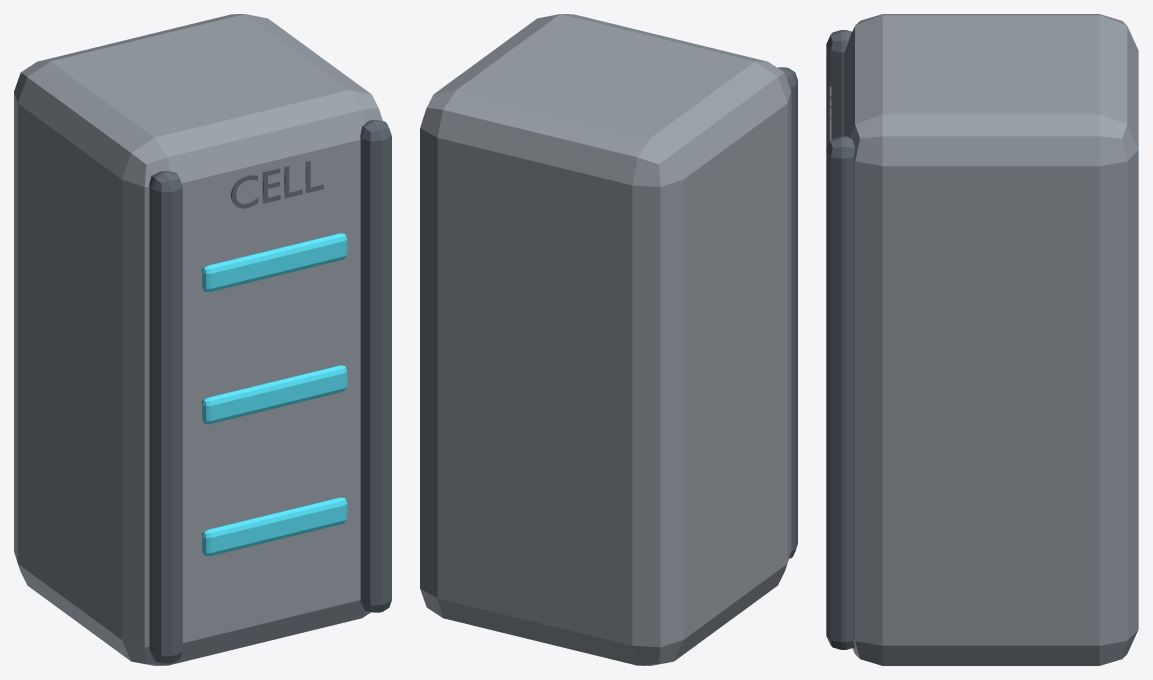
File: 0_Volatile.fbx
The picture shows the model from 3 angles, left to right: view 1: azimuth 30°, elevation 25°; view 2: azimuth 150°, elevation 25°; view 3: azimuth 270°, elevation 25°; orthographic projection. The views are drawn at different scales.
Visible parts, largest first — view 1: Body; view 2: Body; view 3: Body.
Part boxes in pixels (x1,y1,x2,y2): Body: [14, 14, 391, 665]; Body: [420, 14, 797, 665]; Body: [826, 14, 1138, 665].
Size of the model in its own units: 0.72 by 1.4 by 0.72.
